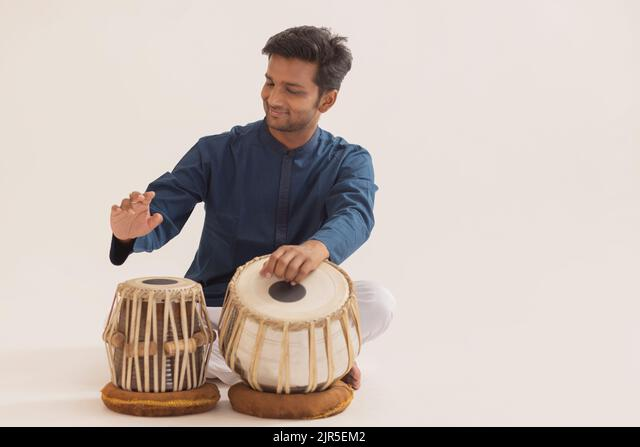tabla: (224, 253, 361, 401), (101, 274, 211, 387)
